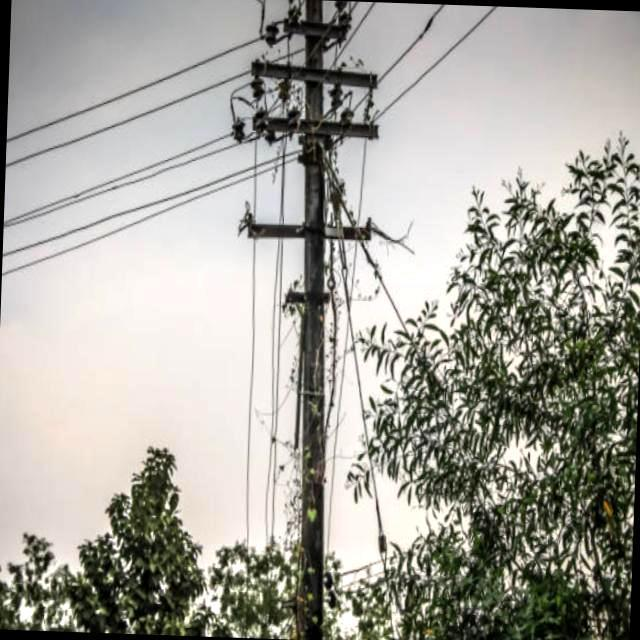critical vegetation: (249, 5, 382, 575), (277, 440, 304, 531)
